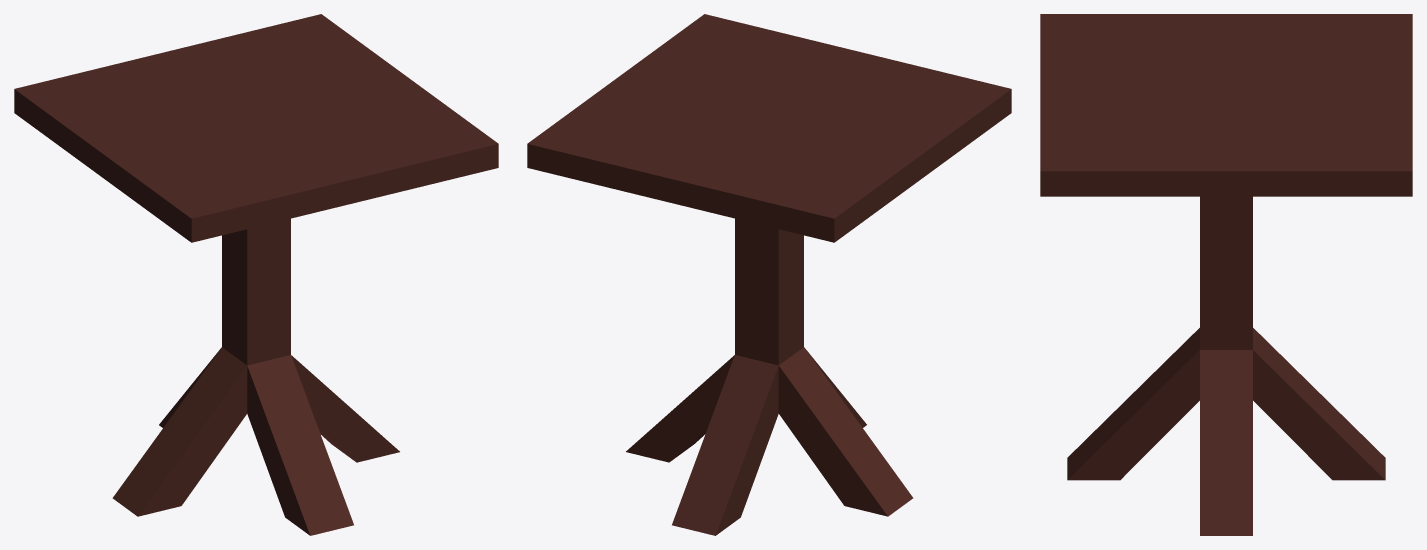
The model's file is table.glb.
3 renders of one model, left to right at view 1: azimuth 30°, elevation 25°; view 2: azimuth 150°, elevation 25°; view 3: azimuth 270°, elevation 25°, orthographic. The views are drawn at different scales.
Parts seen in each view (by area): view 1: table; view 2: table; view 3: table.
Boxes of the visible parts, x1=… form: table: x1=14, y1=14, x2=498, y2=535; table: x1=527, y1=14, x2=1011, y2=535; table: x1=1040, y1=14, x2=1412, y2=535.
Size of the model in its own units: 0.7283 by 0.8135 by 0.7283.
